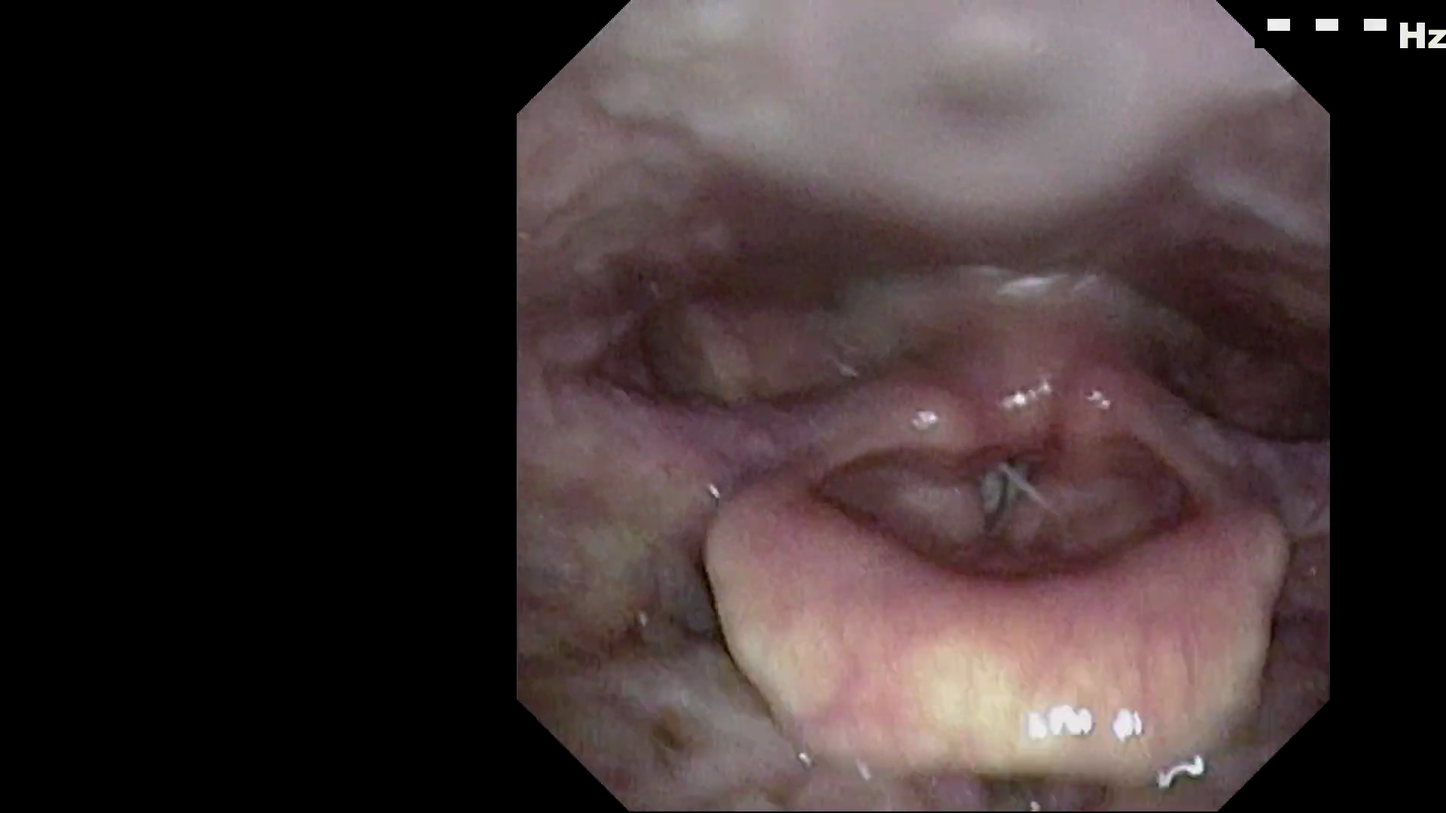epiglottis: (672, 467, 1286, 747)
trachea: (945, 492, 1028, 582)
